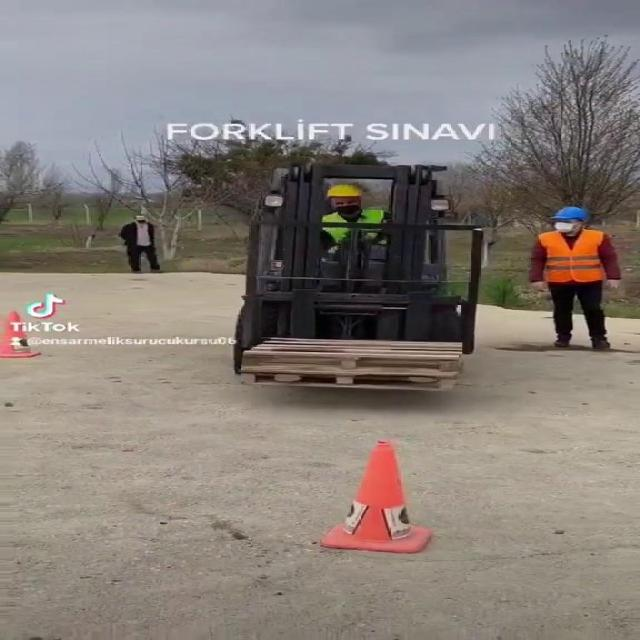forklift: (244, 169, 490, 397)
pallets: (206, 322, 484, 406)
person: (519, 201, 628, 358), (298, 183, 410, 263), (105, 209, 181, 283)
